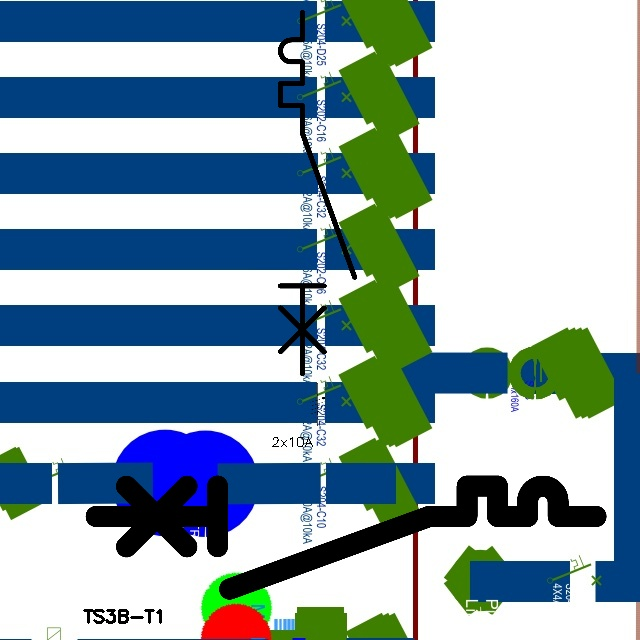interruptor_termomagnetico: (83, 473, 609, 602), (271, 3, 364, 383)
